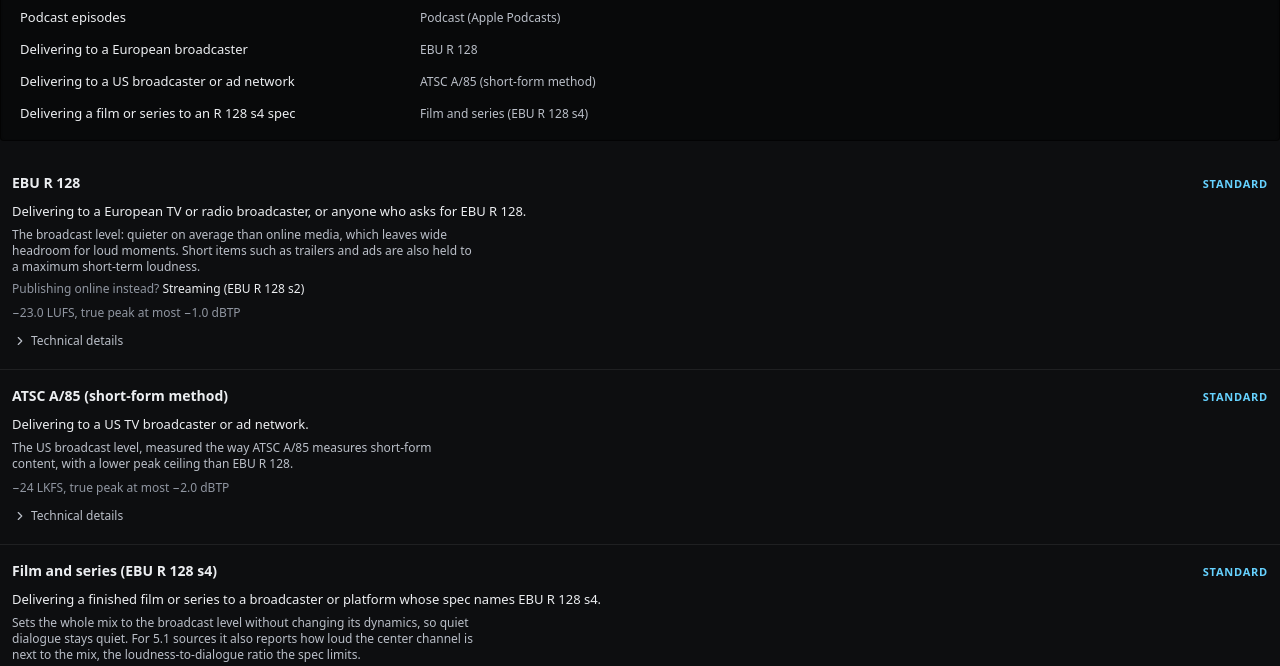
it: PresetSettings, built-in presets › lists the loudness presets read-only with their standard, values, and sources
The image size is (1280, 666).
(page scrolled)
Click the button "Technical details" below "Publishing online instead?". click: {"x": 68, "y": 341}
box: top-left (4, 329), bottom-right (132, 353)
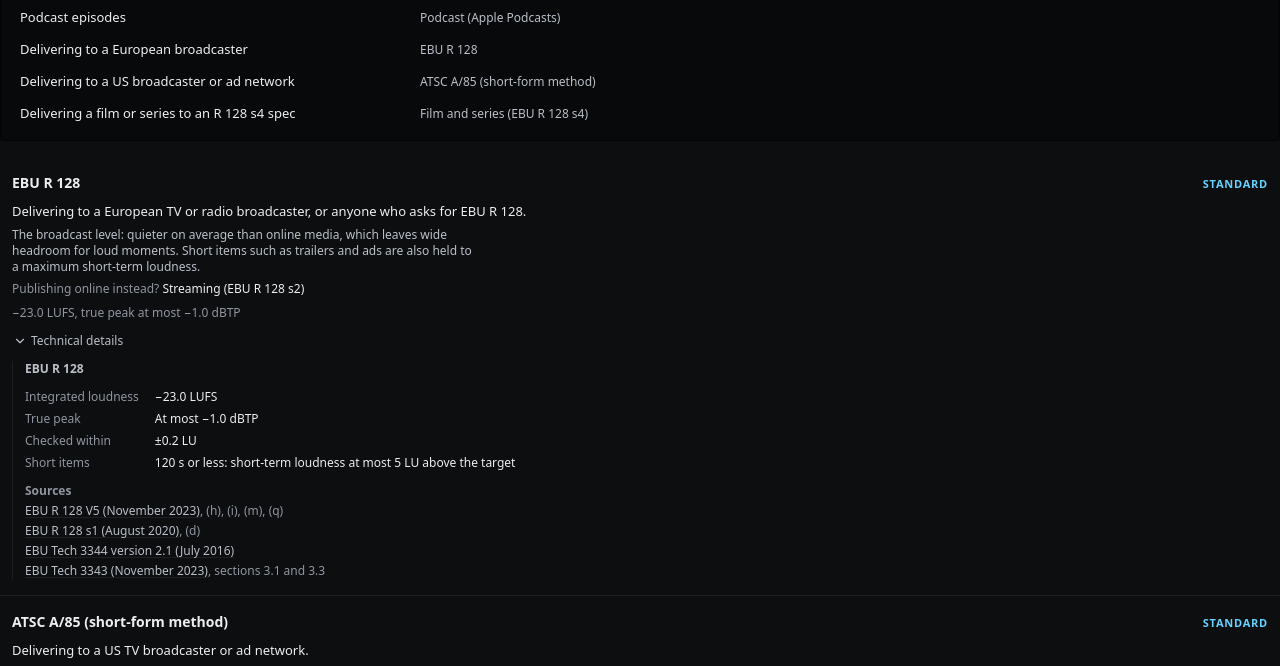
Expected: the button "Technical details" is expanded, top-left (4, 329), bottom-right (132, 353)
